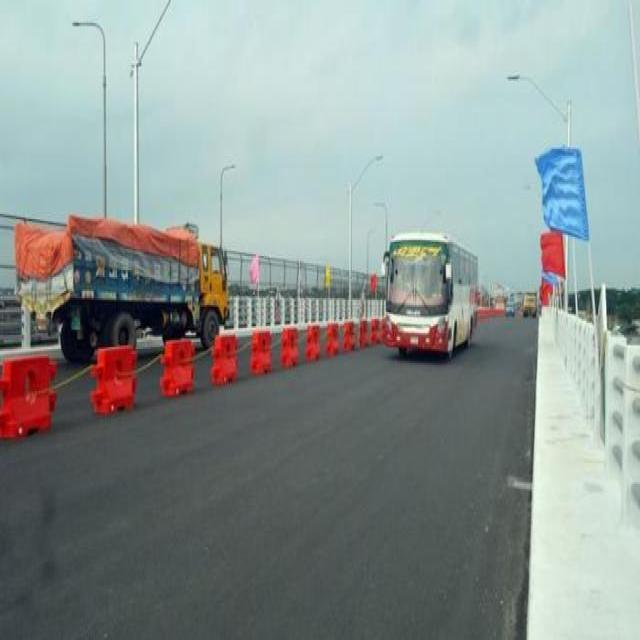bus: (382, 227, 478, 350)
pickup: (504, 295, 514, 313)
truck: (13, 214, 228, 338), (520, 289, 536, 316)
